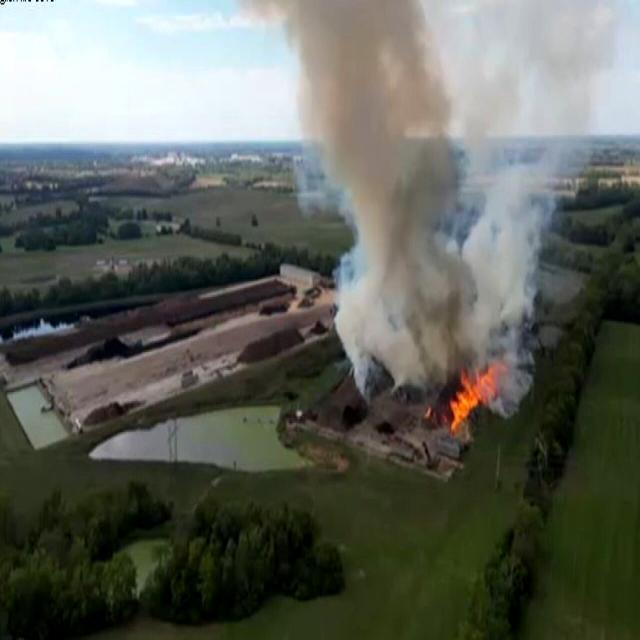Fire: (443, 366, 504, 424)
Smoke: (283, 0, 590, 380)
